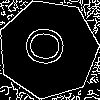O: (23, 24, 75, 70)
